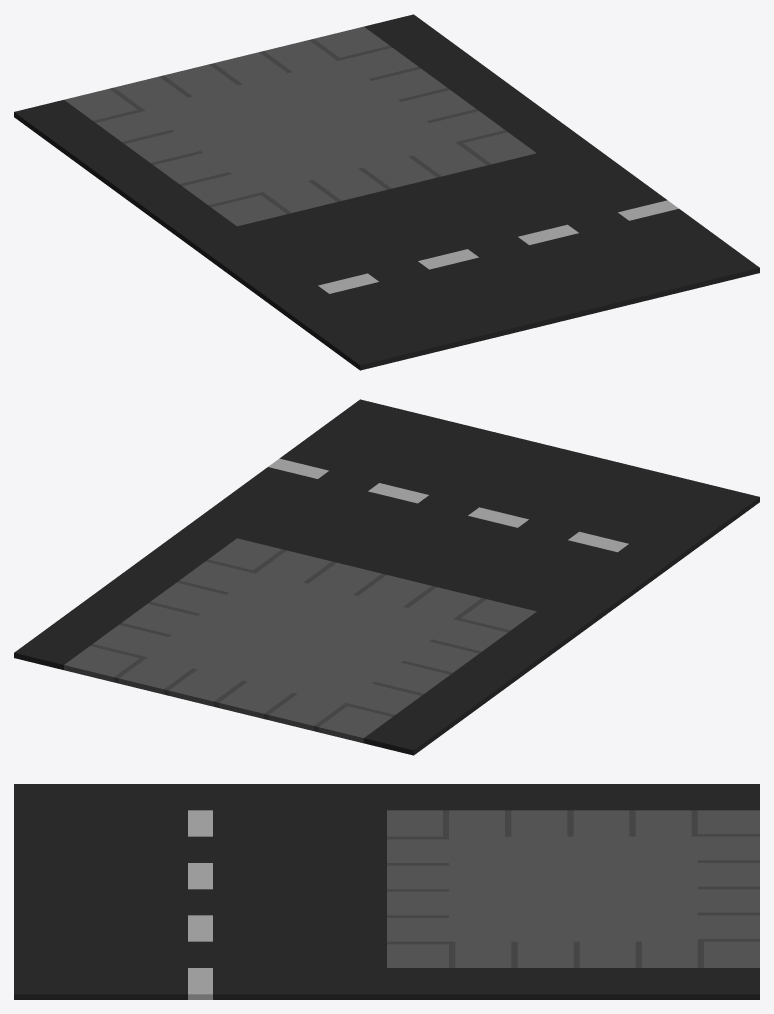
Rendered from street_tile.obj.
The picture shows the model from 3 angles, top to bottom: view 1: azimuth 30°, elevation 25°; view 2: azimuth 150°, elevation 25°; view 3: azimuth 270°, elevation 25°; orthographic projection. The views are drawn at different scales.
Visible parts, largest first — view 1: street_tile; view 2: street_tile; view 3: street_tile.
Boxes of the visible parts, left/top/right/bottom form: street_tile: left=14, top=14, right=759, bottom=370; street_tile: left=14, top=399, right=759, bottom=755; street_tile: left=14, top=784, right=759, bottom=999.
Bounding box in the file's own units: 8 × 0.1 × 12.
1 material, 1 textured.
